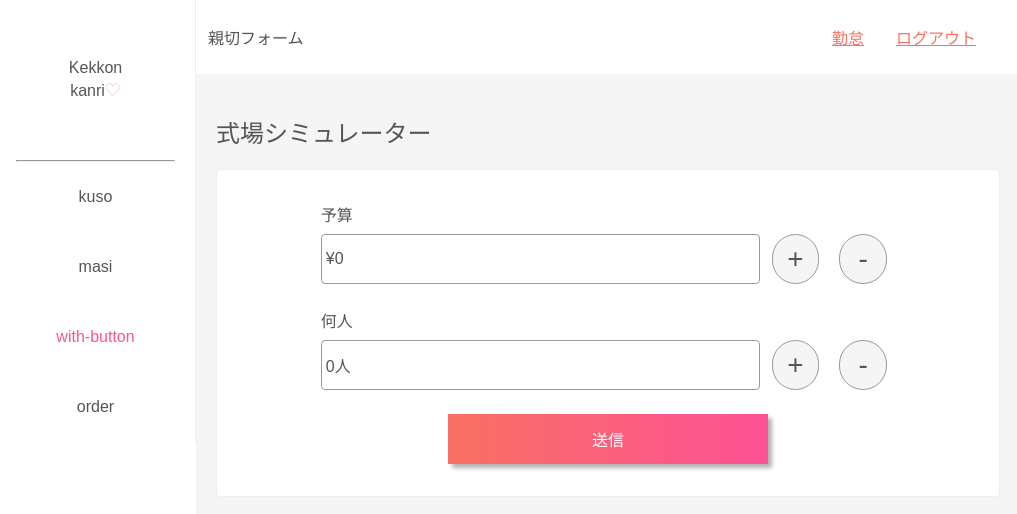
Test: budget-input › プラスボタンを1回クリックすると、¥100,000円加算される
What coordinates should you click on to do the following:
click the button with test id "budget-plus-stepper"
I would click on:
 (795, 259)
Its box is [772, 234, 819, 284].
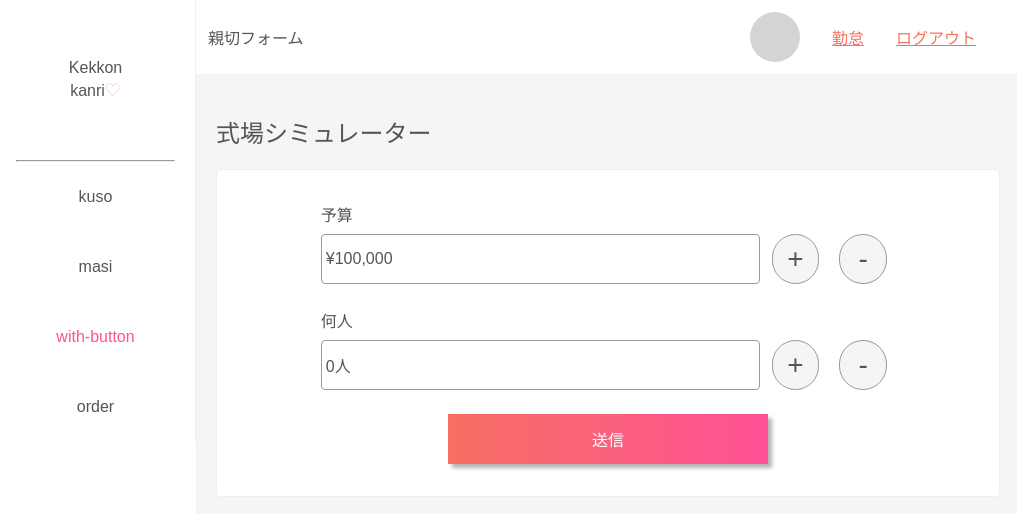
Check: the field labelled "予算" holds "¥100,000", box [321, 234, 760, 284]
